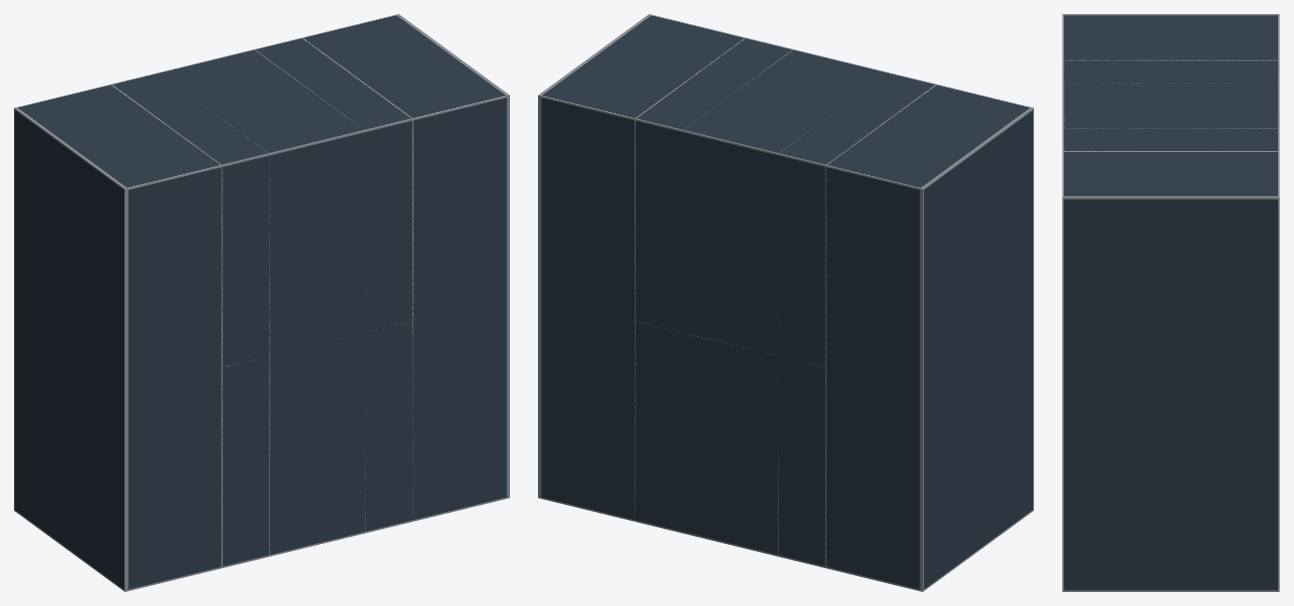
The model's file is boxes.FBX.
3 views of the same model, side by side, from view 1: azimuth 30°, elevation 25°; view 2: azimuth 150°, elevation 25°; view 3: azimuth 270°, elevation 25° (orthographic). The views are drawn at different scales.
Visible parts, largest first — view 1: Box003, Box002, Box004, Box001; view 2: Box003, Box002, Box001, Box004; view 3: Box003, Box002, Box004.
Boxes of the visible parts, box(x1,y1,x2,y2) form: Box003: box(14, 14, 509, 591); Box002: box(110, 37, 413, 567); Box004: box(198, 49, 365, 556); Box001: box(221, 320, 413, 568); Box003: box(538, 14, 1033, 591); Box002: box(634, 38, 937, 567); Box001: box(634, 320, 826, 568); Box004: box(683, 49, 833, 556); Box003: box(1062, 14, 1279, 591); Box002: box(1062, 60, 1279, 151); Box004: box(1062, 83, 1279, 128).
Bounding box in the file's own units: 200 × 200 × 100.
Materials: 1 (1 with a texture image).
